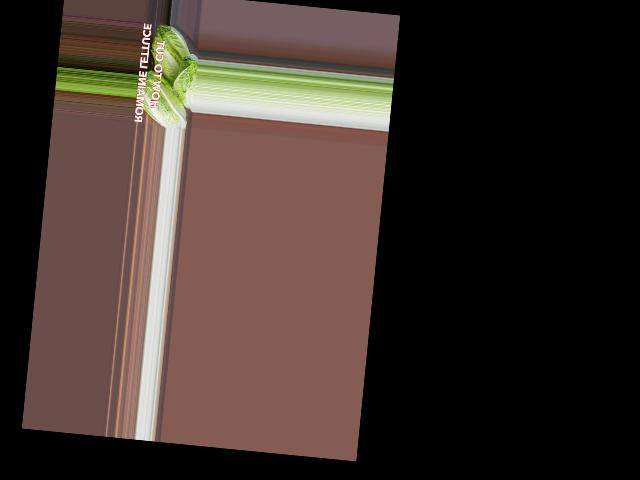lettuce: (142, 21, 196, 90)
